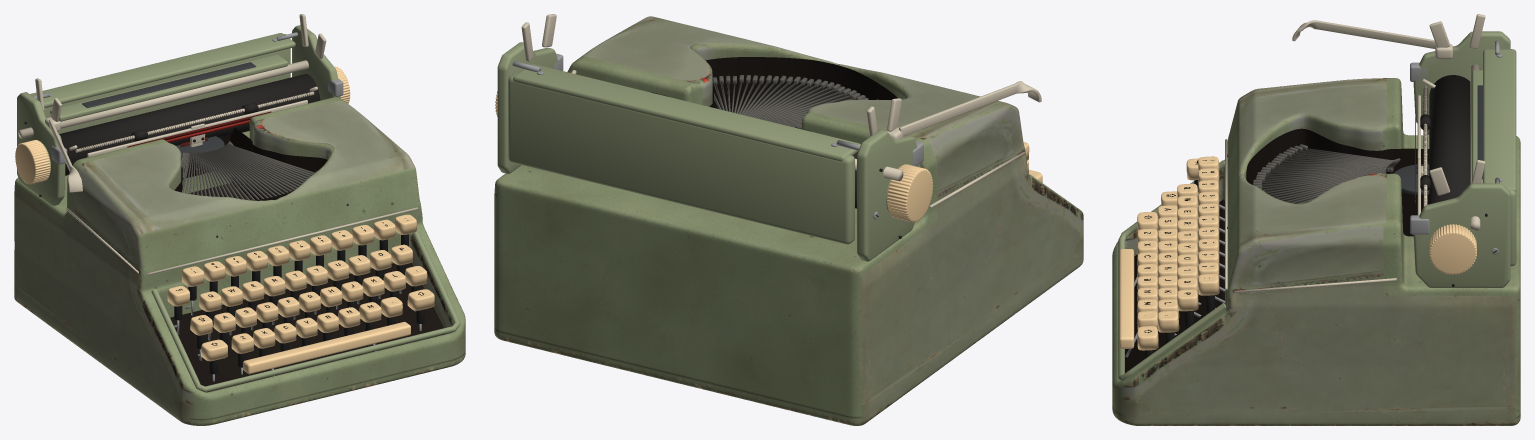
Rendered from typewriter.glb.
3 renders of one model, left to right at view 1: azimuth 30°, elevation 25°; view 2: azimuth 150°, elevation 25°; view 3: azimuth 270°, elevation 25°, orthographic. The views are drawn at different scales.
Parts seen in each view (by area): view 1: shell, platen, tray, carriage_back_top, kb_bead, cap_space, inner_frame, frame_-1, carriage_back, rail, basket_liner, frame_1 (+10 smaller); view 2: shell, carriage_back, carriage_back_top, frame_-1, basket_liner, frame_1, knob_-1, lever_tube; view 3: shell, frame_1, platen, carriage_back_top, basket_liner, frame_-1, knob_1, tray, cap_space, kb_bead, lever_tube, inner_frame (+12 smaller).
Part boxes in pixels (bbox=[...]): shell: bbox=[14, 97, 465, 425]; platen: bbox=[59, 74, 320, 175]; tray: bbox=[170, 262, 446, 392]; carriage_back_top: bbox=[30, 33, 295, 108]; kb_bead: bbox=[151, 229, 460, 392]; cap_space: bbox=[243, 321, 410, 374]; inner_frame: bbox=[50, 54, 287, 121]; frame_-1: bbox=[17, 92, 65, 205]; carriage_back: bbox=[44, 34, 290, 133]; rail: bbox=[18, 56, 325, 138]; basket_liner: bbox=[174, 127, 327, 200]; frame_1: bbox=[292, 25, 340, 100]; shell: bbox=[494, 16, 1083, 425]; carriage_back: bbox=[508, 73, 854, 244]; carriage_back_top: bbox=[513, 64, 860, 161]; frame_-1: bbox=[857, 130, 920, 261]; basket_liner: bbox=[705, 57, 897, 112]; frame_1: bbox=[497, 42, 557, 173]; knob_-1: bbox=[887, 164, 933, 222]; lever_tube: bbox=[899, 81, 1041, 136]; shell: bbox=[1112, 78, 1520, 425]; frame_1: bbox=[1413, 183, 1510, 287]; platen: bbox=[1429, 75, 1470, 204]; carriage_back_top: bbox=[1483, 49, 1516, 191]; basket_liner: bbox=[1246, 128, 1429, 236]; frame_-1: bbox=[1413, 31, 1510, 135]; knob_1: bbox=[1429, 224, 1476, 274]; tray: bbox=[1125, 199, 1224, 372]; cap_space: bbox=[1119, 249, 1134, 348]; kb_bead: bbox=[1118, 160, 1225, 381]; lever_tube: bbox=[1292, 20, 1435, 48]; inner_frame: bbox=[1472, 70, 1482, 183].
Size of the model in its own units: 0.4008 by 0.2702 by 0.369.
15 materials, 1 textured.
